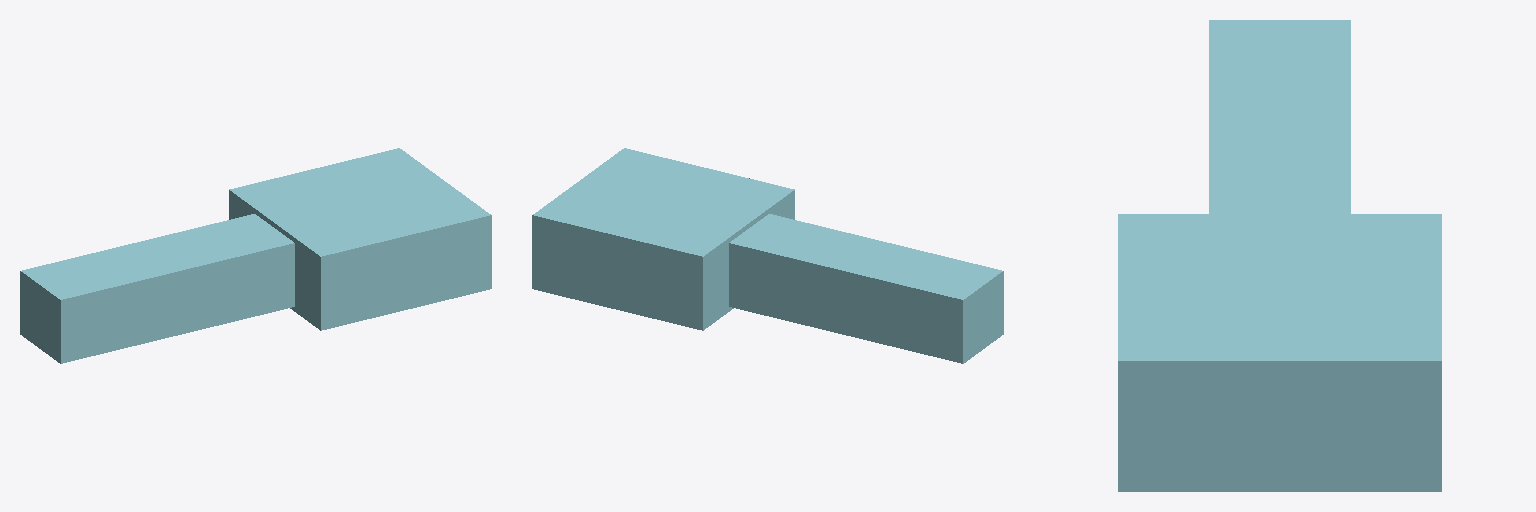
robot.urdf — cuboid_brush_v10000:
<?xml version="1.0"?>
<robot name="cuboid_brush_v10000">

  <link name="cuboid_brush_v10000">
    <!-- Handle -->
    <visual>
      <origin xyz="0 0 0" rpy="0 0 0"/>
      <geometry>
        <box size="0.10657170205335212 0.031579376010724705 0.027751421769760864"/>
      </geometry>
      <material name="material">
        <color rgba="0.639 0.847 0.882 1.0"/>
      </material>
    </visual>
    <collision>
      <origin xyz="0 0 0" rpy="0 0 0"/>
      <geometry>
        <box size="0.10657170205335212 0.031579376010724705 0.027751421769760864"/>
      </geometry>
    </collision>

    <!-- Head -->
    <visual>
      <origin xyz="0.09209789711192894 0 0" rpy="0 0 0"/>
      <geometry>
        <box size="0.07762409217050575 0.07233927420197662 0.03217482257796493"/>
      </geometry>
      <material name="material">
        <color rgba="0.639 0.847 0.882 1.0"/>
      </material>
    </visual>
    <collision>
      <origin xyz="0.09209789711192894 0 0" rpy="0 0 0"/>
      <geometry>
        <box size="0.07762409217050575 0.07233927420197662 0.03217482257796493"/>
      </geometry>
    </collision>

    <inertial>
      <density value="400.0"/>
    </inertial>
  </link>

</robot>

--- Render facts (derived) ---
3 views of the same robot in one strip: view 1: azimuth 30°, elevation 25°; view 2: azimuth 150°, elevation 25°; view 3: azimuth 270°, elevation 25° (orthographic).
Robot: cuboid_brush_v10000 — 1 links, 0 joints (none); root link cuboid_brush_v10000; default pose: all joints at 0.
Visible links, largest first — view 1: cuboid_brush_v10000; view 2: cuboid_brush_v10000; view 3: cuboid_brush_v10000.
Boxes of the visible links, box(x1,y1,x2,y2) form: cuboid_brush_v10000: box(20, 148, 491, 363); cuboid_brush_v10000: box(532, 148, 1003, 363); cuboid_brush_v10000: box(1118, 20, 1441, 491).
Size in the robot's own frame: 0.1842 by 0.0723 by 0.0322 metres.
Geometry: primitives only (box / cylinder / sphere), no mesh files.
